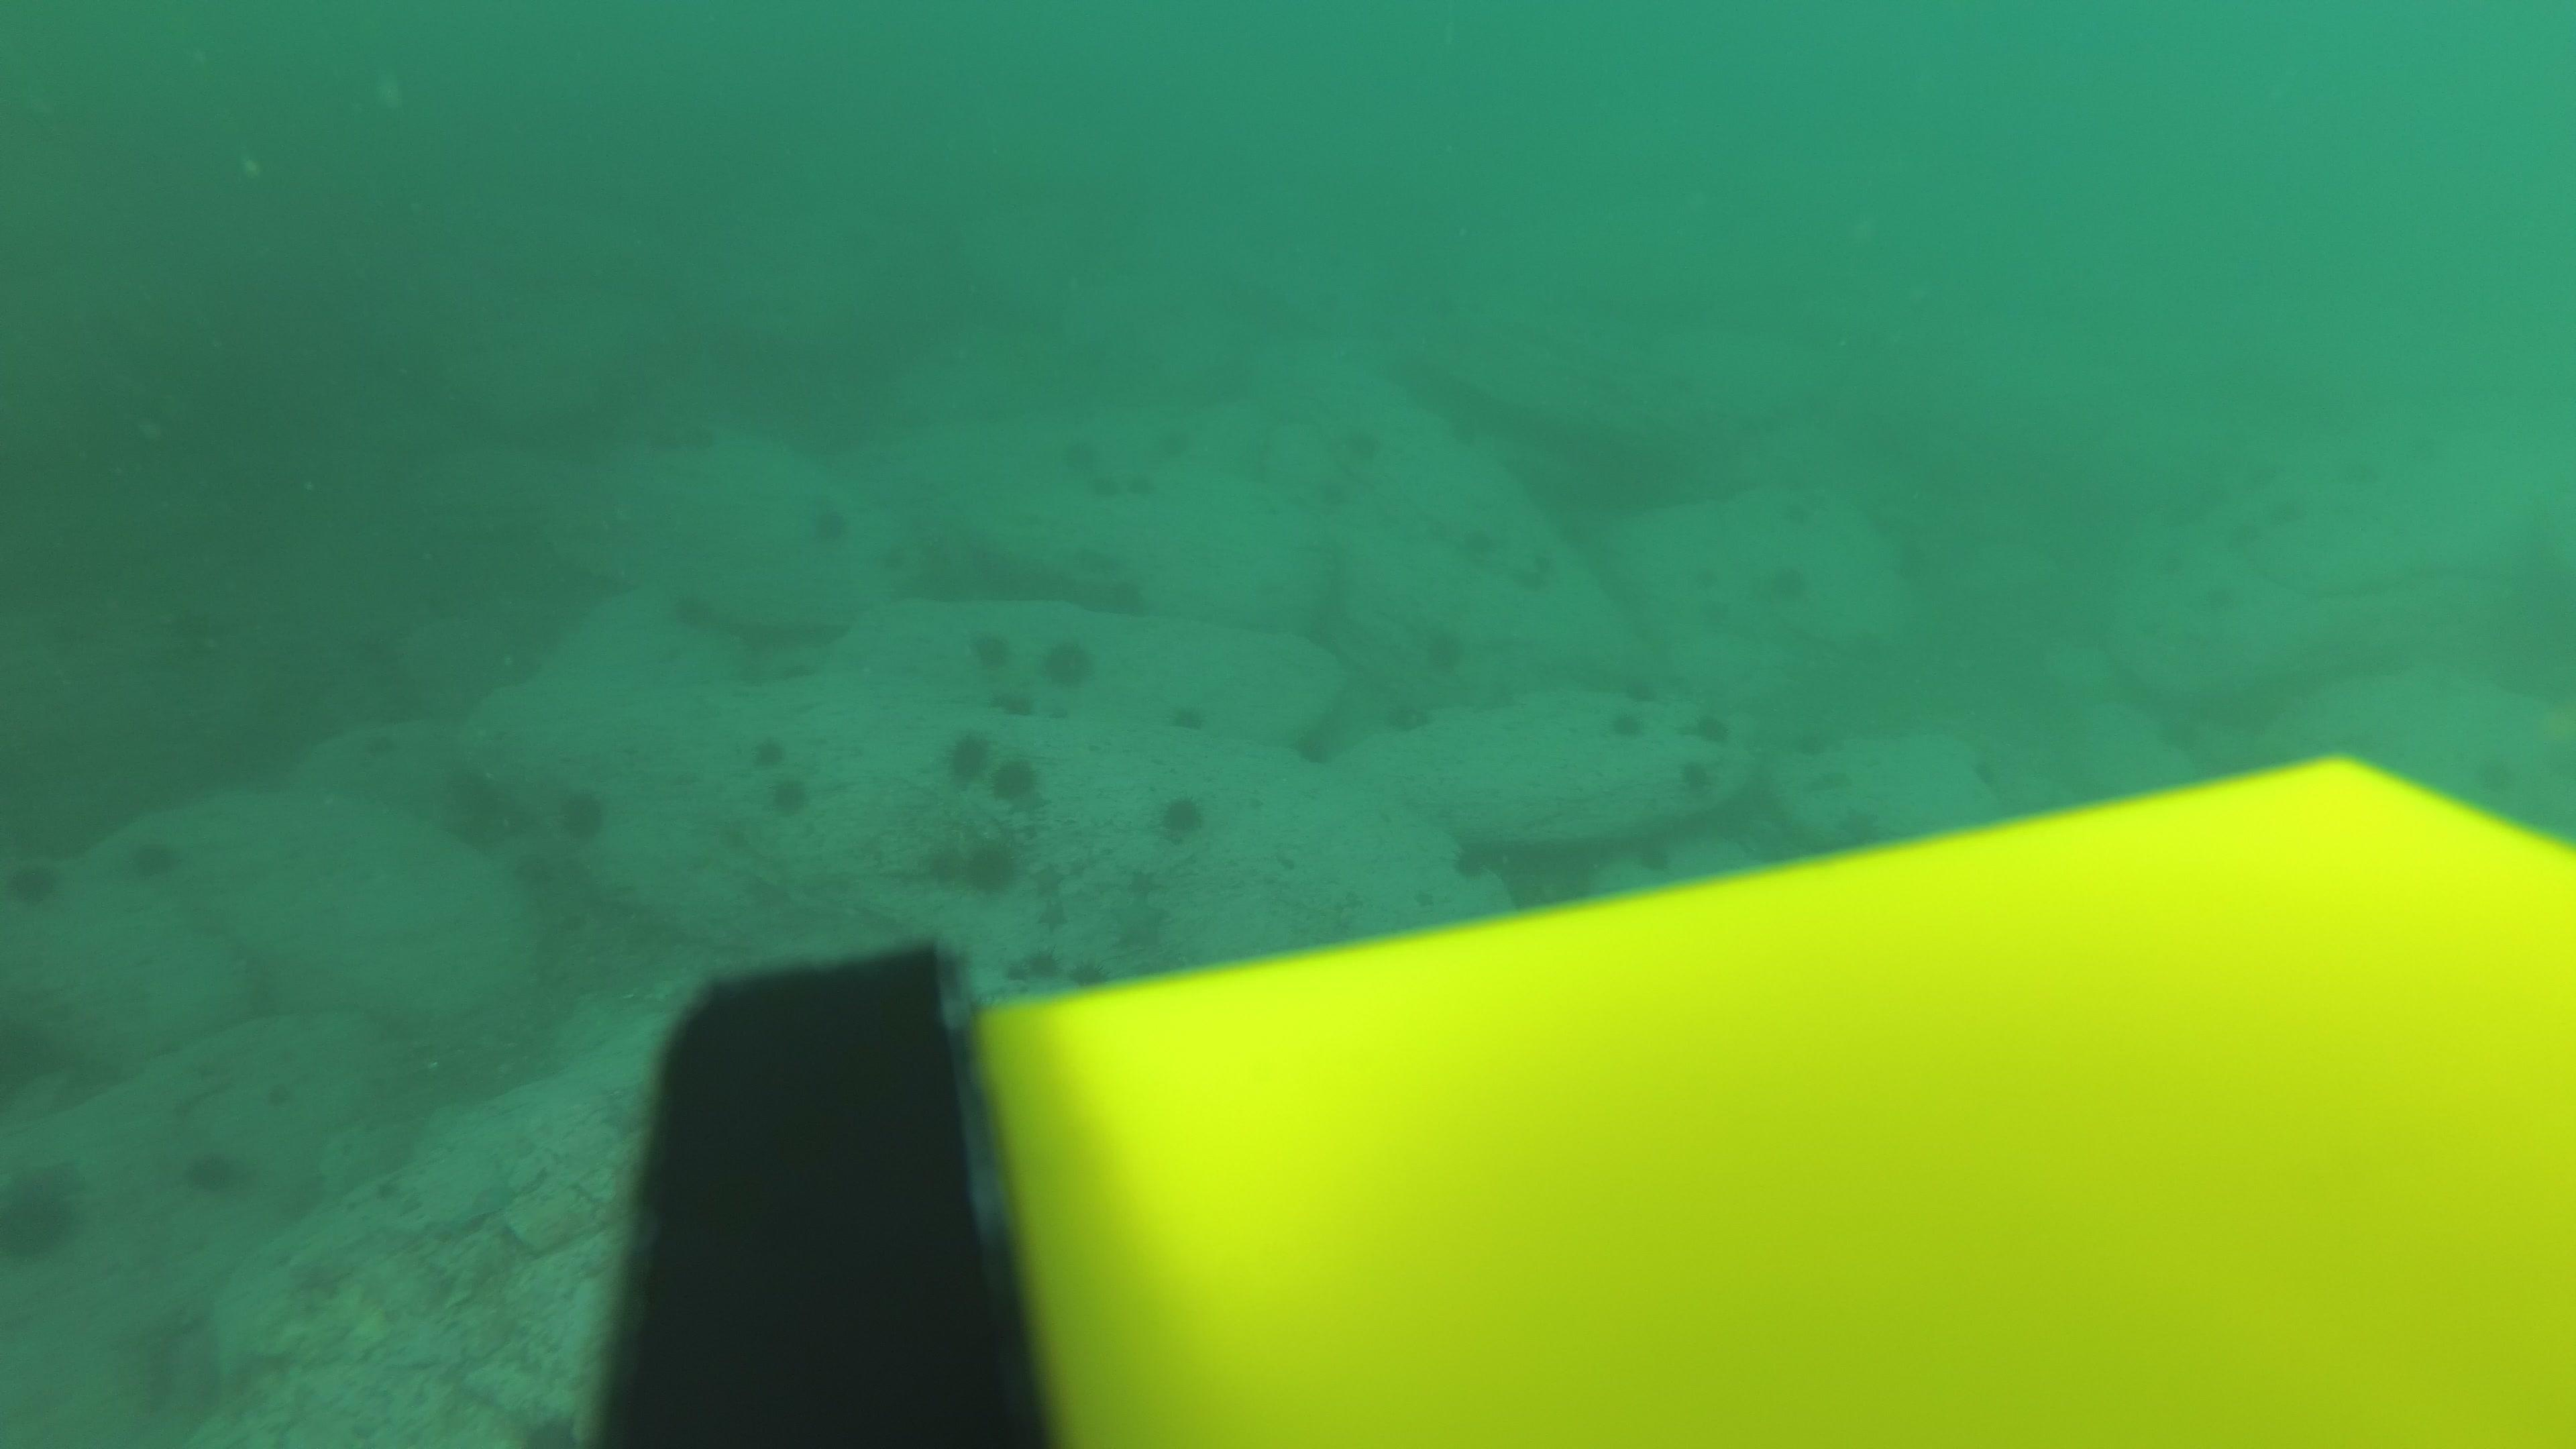echinus: (0, 1162, 83, 1267), (752, 731, 810, 817), (180, 1141, 249, 1200), (957, 835, 1019, 895), (5, 851, 64, 911), (126, 830, 186, 886), (556, 782, 610, 844), (943, 729, 996, 793), (982, 750, 1040, 805), (1042, 633, 1093, 688), (763, 764, 814, 819), (747, 731, 798, 786), (1157, 789, 1207, 842), (805, 495, 853, 548), (966, 625, 1012, 674), (1684, 708, 1732, 747), (1288, 734, 1330, 768), (1069, 957, 1109, 989), (1679, 761, 1713, 789), (1451, 849, 1484, 878), (1463, 529, 1497, 557), (1626, 674, 1660, 702), (1771, 568, 1805, 596), (1776, 501, 1810, 529), (1796, 731, 1829, 759), (1430, 635, 1463, 663), (1391, 702, 1424, 731), (1637, 840, 1668, 869), (1424, 515, 1456, 543), (1688, 559, 1720, 587), (1698, 596, 1730, 625), (1610, 711, 1644, 738), (1028, 948, 1060, 975), (1173, 706, 1205, 731), (1005, 695, 1035, 720), (1001, 959, 1028, 982), (1093, 474, 1120, 497), (1129, 474, 1155, 497), (1067, 446, 1093, 469), (1353, 435, 1380, 458), (1166, 430, 1191, 451), (984, 692, 1008, 711), (786, 660, 810, 679), (883, 547, 906, 566)
starfish: (1108, 883, 1169, 952), (287, 1251, 352, 1299), (1033, 899, 1069, 932), (1033, 863, 1069, 897), (1067, 855, 1092, 879)
